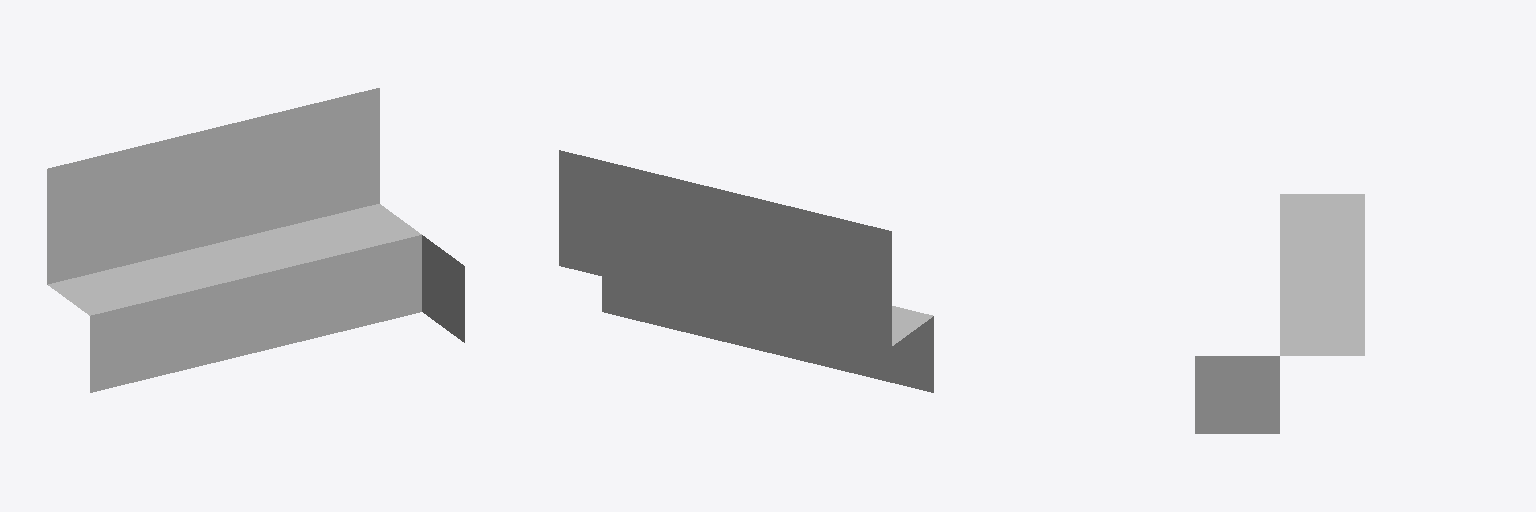
The model's file is hallway2marvin.obj.
3 renders of one model, left to right at view 1: azimuth 30°, elevation 25°; view 2: azimuth 150°, elevation 25°; view 3: azimuth 270°, elevation 25°, orthographic.
Visible parts, largest first — view 1: Plane.002_Plane.003; view 2: Plane.002_Plane.003; view 3: Plane.002_Plane.003.
Part boxes in pixels (x1,y1,x2,y2): Plane.002_Plane.003: (47, 88, 464, 392); Plane.002_Plane.003: (559, 150, 933, 392); Plane.002_Plane.003: (1195, 194, 1364, 433).
Size of the model in its own units: 18 by 10 by 8.